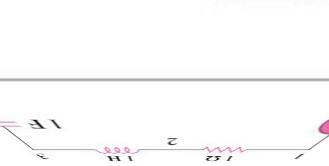inductor: (91, 139, 145, 155)
